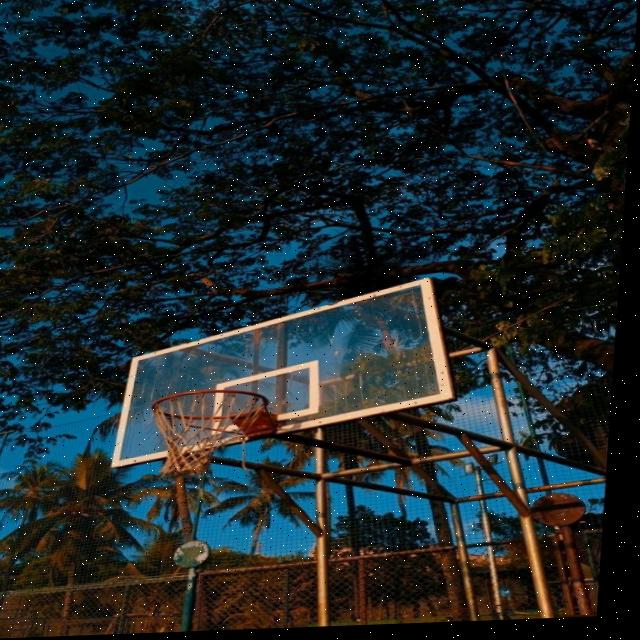hoop: (124, 392, 319, 484)
